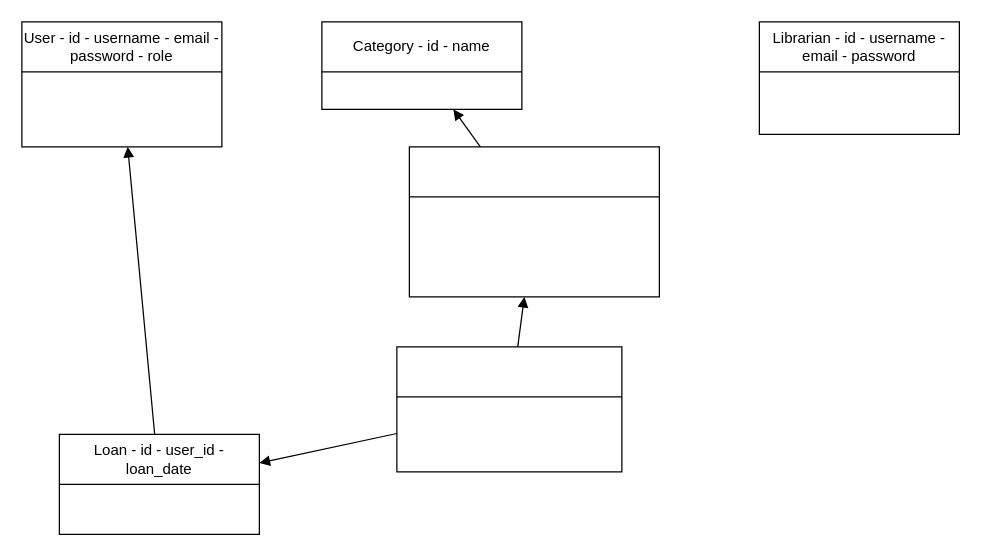
This 981x556 diagram has some shape labels left out. Each missing label, with the centre of its shape:
Book - id - title - author - category_id - quantity - total_borrowed: [533,221]
LoanItem - id - loan_id - book_id - return_date: [509,409]
